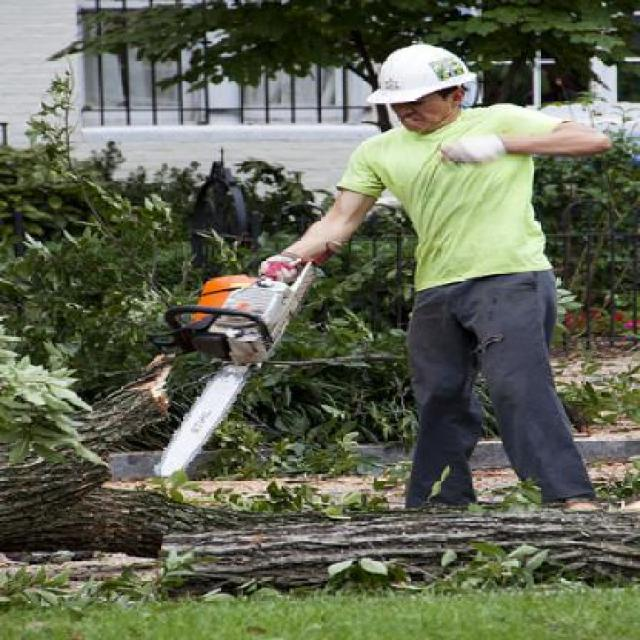Chainsaw: (141, 238, 347, 476)
